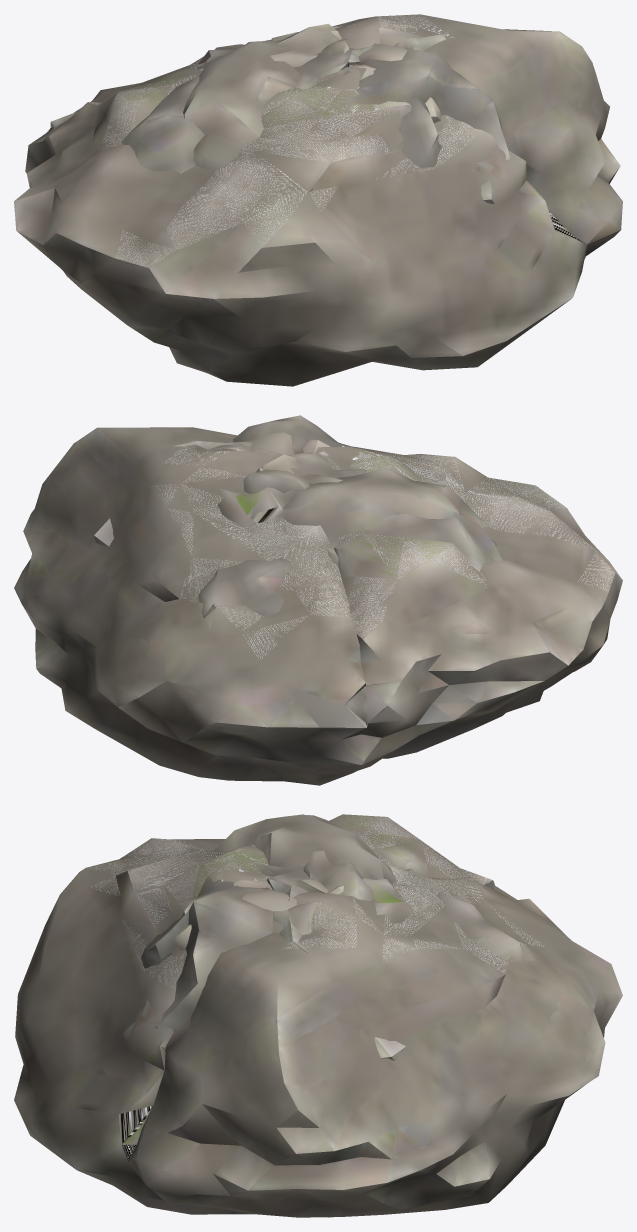
Rendered from env-rocks.low.glb.
3 renders of one model, top to bottom at view 1: azimuth 30°, elevation 25°; view 2: azimuth 150°, elevation 25°; view 3: azimuth 270°, elevation 25°, orthographic. The views are drawn at different scales.
Parts seen in each view (by area): view 1: stone-c, stone-a, stone-e, stone-snow-c, stone-moss-c, stone-d, stone-f; view 2: stone-c, stone-a, stone-e, stone-snow-c, stone-d, stone-moss-c; view 3: stone-c, stone-a, stone-e, stone-snow-c, stone-d, stone-moss-c, stone-f.
Boxes of the visible parts, left/top/right/bottom form: stone-c: left=14, top=14, right=622, bottom=386; stone-a: left=121, top=28, right=510, bottom=203; stone-e: left=183, top=26, right=411, bottom=169; stone-snow-c: left=93, top=14, right=562, bottom=367; stone-moss-c: left=119, top=67, right=586, bottom=268; stone-d: left=270, top=23, right=340, bottom=66; stone-f: left=199, top=27, right=441, bottom=123; stone-c: left=14, top=427, right=622, bottom=785; stone-a: left=94, top=415, right=502, bottom=617; stone-e: left=217, top=432, right=483, bottom=537; stone-snow-c: left=151, top=441, right=613, bottom=781; stone-d: left=243, top=469, right=342, bottom=493; stone-moss-c: left=283, top=447, right=451, bottom=783; stone-c: left=14, top=814, right=622, bottom=1217; stone-a: left=123, top=815, right=524, bottom=1060; stone-e: left=182, top=814, right=413, bottom=923; stone-snow-c: left=45, top=814, right=544, bottom=1216; stone-d: left=303, top=850, right=372, bottom=901; stone-moss-c: left=101, top=815, right=416, bottom=1212; stone-f: left=175, top=869, right=415, bottom=950.
Bounding box in the file's own units: 2.42 × 1 × 2.07.
Materials: 1 (1 with a texture image).
